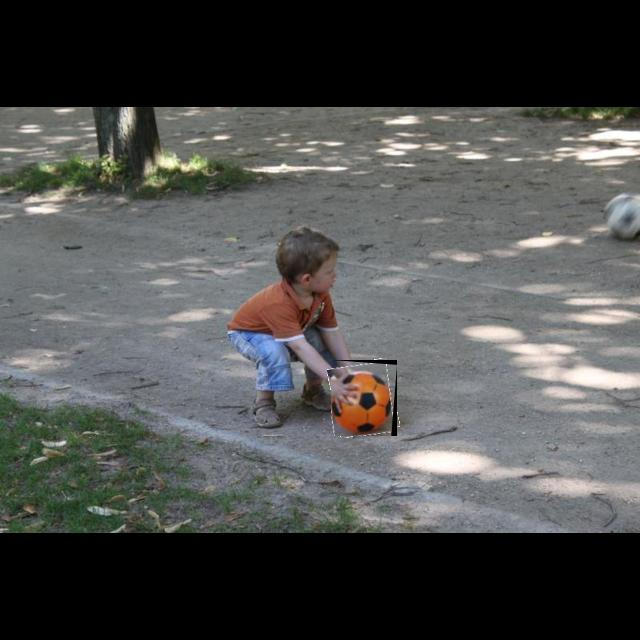Football: (331, 360, 397, 436)
